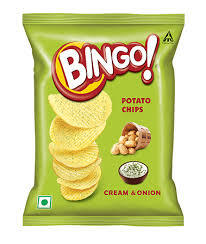VEG: (36, 195, 53, 210)
